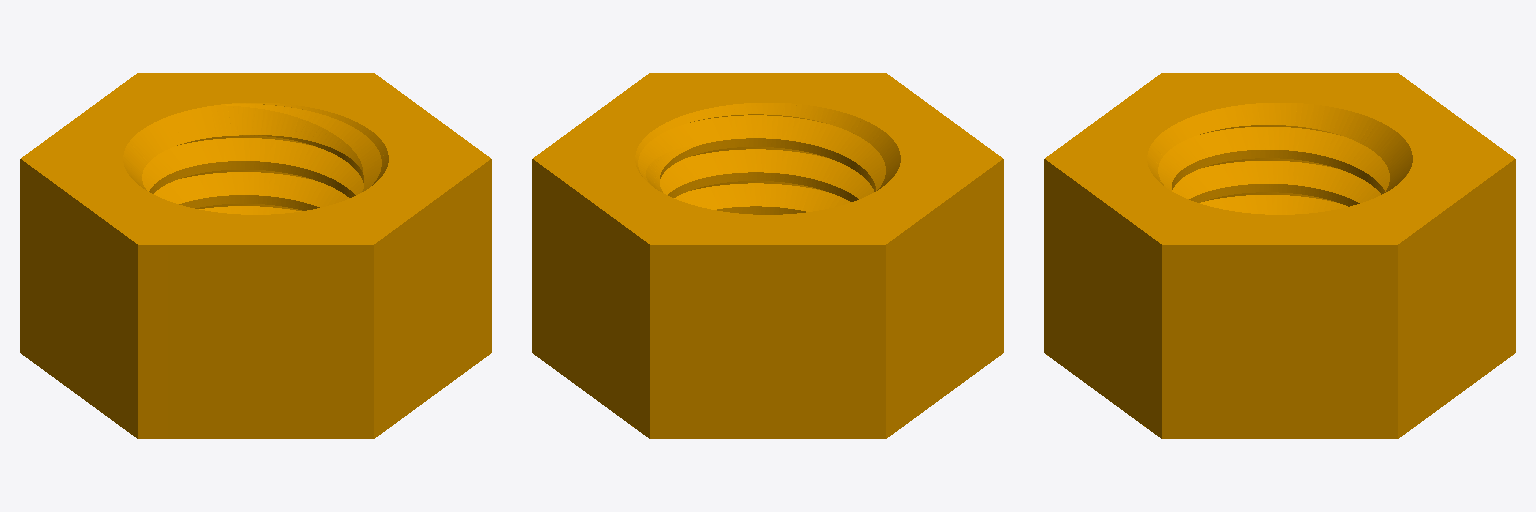
The robot description file, URDF, robot "factory_nut_m12_tight":
<?xml version="1.0"?>
<robot name="factory_nut_m12_tight">
    <link name="factory_nut_m12_tight">
        <visual>
            <geometry>
                <mesh filename="../mesh/factory_nut_bolt/factory_nut_m12_tight_subdiv_3x.obj"/>
            </geometry>
        </visual>
        <collision>
            <geometry>
                <mesh filename="../mesh/factory_nut_bolt/factory_nut_m12_tight_subdiv_3x.obj"/>
            </geometry>
            <sdf resolution="256"/>
        </collision>
    </link>
</robot>

--- What the picture shows (computed from the rendered views, not written in the file) ---
The picture shows the robot from 3 angles, left to right: view 1: azimuth 30°, elevation 25°; view 2: azimuth 150°, elevation 25°; view 3: azimuth 270°, elevation 25°; orthographic projection.
Model factory_nut_m12_tight with 1 links and 0 joints (none), rooted at factory_nut_m12_tight, posed every joint at zero.
Visible links, largest first — view 1: factory_nut_m12_tight; view 2: factory_nut_m12_tight; view 3: factory_nut_m12_tight.
Boxes of the visible links, x1,y1,x2,y2 form: factory_nut_m12_tight: [20, 73, 491, 438]; factory_nut_m12_tight: [532, 73, 1003, 438]; factory_nut_m12_tight: [1044, 73, 1515, 438].
Bounding box of the posed robot: 0.019 × 0.0219 × 0.01 m (x, y, z).
Meshes: 1 distinct files referenced, 1 mesh visuals loaded (1 OBJ).